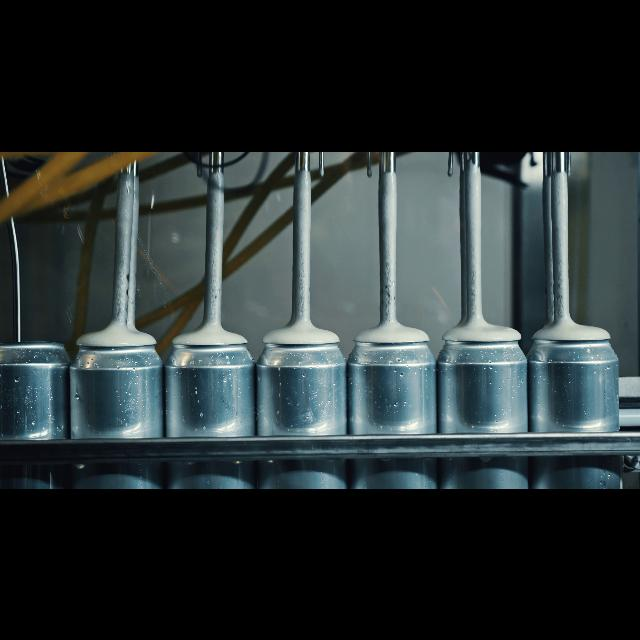empty: (1, 332, 69, 488)
full: (532, 312, 620, 488), (258, 314, 344, 488), (439, 314, 523, 488), (167, 318, 251, 488), (74, 322, 160, 488), (353, 314, 432, 488)
